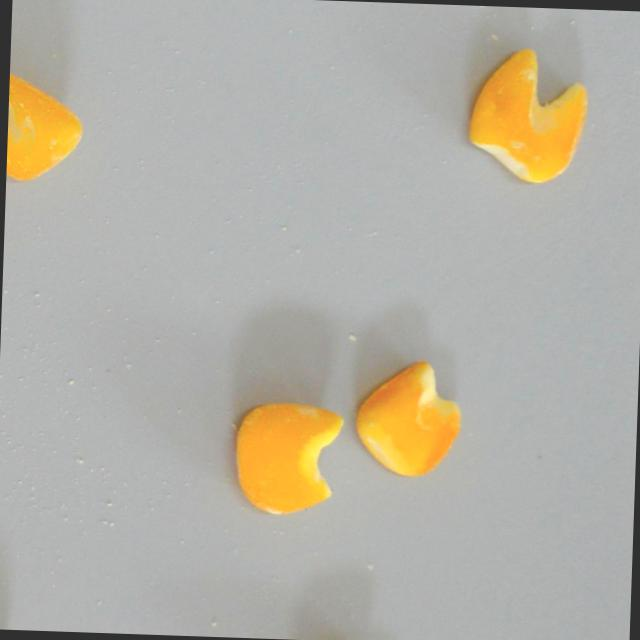dañado: (353, 358, 464, 481)
no_canjicado: (231, 399, 345, 519)
pelicula: (466, 44, 589, 183), (5, 69, 84, 184)
